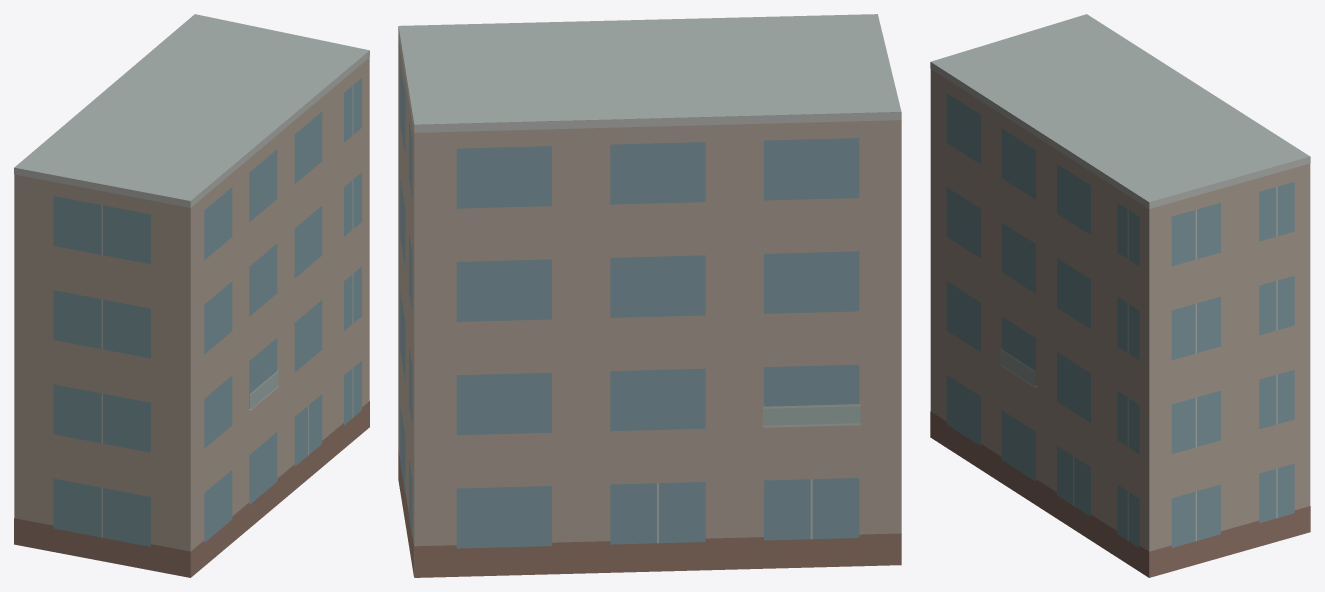
The model's file is survey-upis-32811885.glb.
3 renders of one model, left to right at view 1: azimuth 30°, elevation 25°; view 2: azimuth 150°, elevation 25°; view 3: azimuth 270°, elevation 25°, orthographic. The views are drawn at different scales.
Visible parts, largest first — view 1: survey-upis-32811885.tmp; view 2: survey-upis-32811885.tmp; view 3: survey-upis-32811885.tmp.
Boxes of the visible parts, <box> form: survey-upis-32811885.tmp: <box>14,14,369,577</box>; survey-upis-32811885.tmp: <box>398,14,901,577</box>; survey-upis-32811885.tmp: <box>930,14,1310,577</box>.
Bounding box in the file's own units: 14.41 × 13.4 × 12.29.
